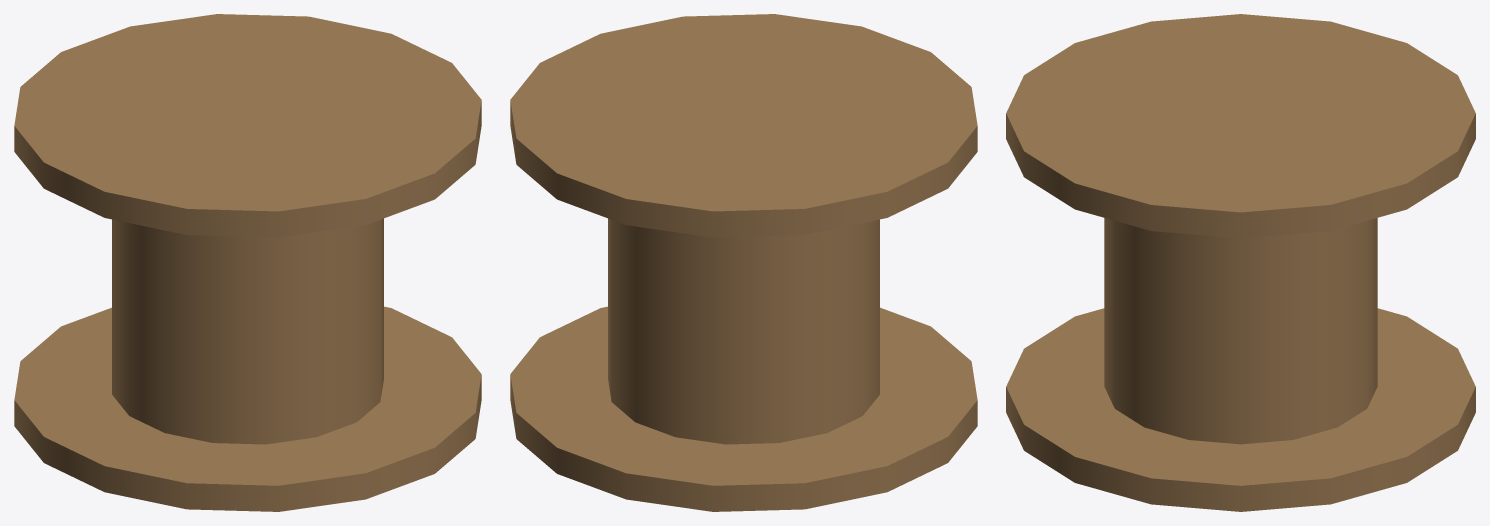
File: Carretel.fbx
3 renders of one model, left to right at view 1: azimuth 30°, elevation 25°; view 2: azimuth 150°, elevation 25°; view 3: azimuth 270°, elevation 25°, orthographic.
Visible parts, largest first — view 1: Cilindro.001; view 2: Cilindro.001; view 3: Cilindro.001.
Boxes of the visible parts, x1,y1,x2,y2 form: Cilindro.001: [14, 14, 481, 511]; Cilindro.001: [510, 14, 977, 511]; Cilindro.001: [1006, 14, 1475, 511].
Bounding box in the file's own units: 268 × 188 × 268.
